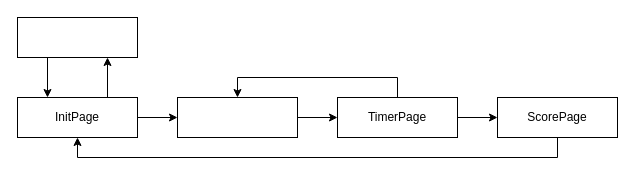
Image size: 635x183. Some labels were removed from this diagram. The shapes that lost their labels are listed below. From the top down, each one's centre as x and y in pixels, then its label:
At point (77, 37): "RulesPage".
At point (237, 117): "ReadyPage".
